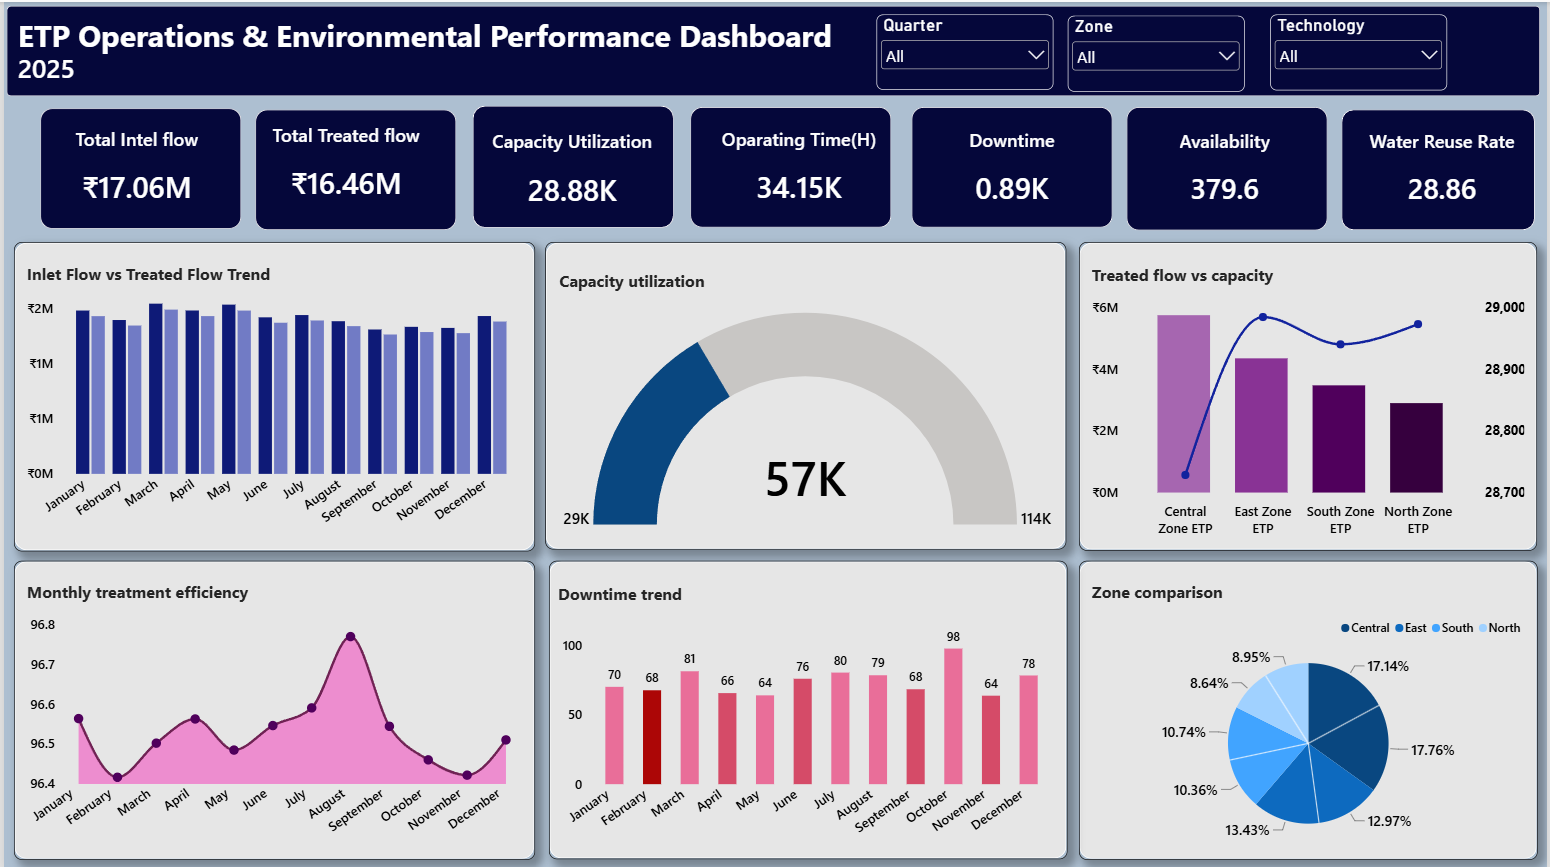

This screenshot's page, from the dashboard's own definition file:
{"tool":"powerbi","page":{"name":"Executive Overview","canvas":[1920,1080],"ordinal":0},"visuals":[{"type":"shape","box":[3.6,5.4,1907.1,112.5],"z":0},{"type":"shape","box":[483.9,132.1,225,151.8],"z":0,"group":"g3"},{"type":"shape","box":[1196.4,132.1,234,153.6],"z":0,"group":"g6"},{"type":"shape","box":[1684,132.1,225,153.6],"z":0,"group":"g8"},{"type":"shape","box":[7.1,133.9,225,150],"z":0,"group":"g1"},{"type":"shape","box":[242.9,133.9,223.8,150],"z":0,"group":"g2"},{"type":"shape","box":[717.9,133.9,225,150],"z":0,"group":"g4"},{"type":"shape","box":[958.9,133.9,225,150],"z":0,"group":"g5"},{"type":"shape","box":[1442.2,135.4,225,150],"z":0,"group":"g7"},{"type":"shape","box":[12.6,297.8,647.9,384.4],"z":0,"group":"g9"},{"type":"shape","box":[12.6,694.9,647.9,371.8],"z":0,"group":"g12"},{"type":"shape","box":[675,694.9,647.9,371.8],"z":0,"group":"g13"},{"type":"group","id":"g1","title":"Group 1","box":[7.1,133.9,225,150],"z":1000},{"type":"cardVisual","fields":{"Data":["Daily_Operations.Avg Downtime"]},"box":[968,143,221.4,126.8],"z":1000,"group":"g5"},{"type":"cardVisual","fields":{"Data":["Daily_Operations.Overall Compliance Rate (%)"]},"box":[1207.1,143.5,232.1,129.7],"z":1000,"group":"g6"},{"type":"cardVisual","fields":{"Data":["Daily_Operations.Water Reuse Rate"]},"box":[493.6,143.6,215.2,128],"z":1000,"group":"g3"},{"type":"cardVisual","fields":{"Data":["Daily_Operations.Total Operating Cost"]},"box":[1429.7,143.6,253.6,127.2],"z":1000,"group":"g7"},{"type":"cardVisual","fields":{"Data":["Daily_Operations.Total Intel flow"]},"box":[11.9,143.8,208.7,126.5],"z":1000,"group":"g1"},{"type":"cardVisual","fields":{"Data":["Daily_Operations.Total Treated flow"]},"box":[252.1,145.3,217.6,126.5],"z":1000,"group":"g2"},{"type":"cardVisual","fields":{"Data":["Daily_Operations.Cost per KL"]},"box":[1666.1,145.5,253.6,130.2],"z":1000,"group":"g8"},{"type":"cardVisual","fields":{"Data":["Daily_Operations.Plant Availability"]},"box":[726.3,146.9,205.5,126.5],"z":1000,"group":"g4"},{"type":"shape","box":[1337.8,297.8,569.9,383.7],"z":1000,"group":"g11"},{"type":"shape","box":[675,299.6,647.9,382.6],"z":1000,"group":"g10"},{"type":"shape","box":[1337.4,694.9,570.3,371.8],"z":1000,"group":"g14"},{"type":"group","id":"g2","title":"Group 2","box":[242.9,133.9,226.8,150],"z":2000},{"type":"group","id":"g3","title":"Group 3","box":[483.9,132.1,225,151.8],"z":3000},{"type":"group","id":"g4","title":"Group 4","box":[717.9,133.9,225,150],"z":4000},{"type":"group","id":"g5","title":"Group 5","box":[958.9,133.9,230.5,150],"z":5000},{"type":"group","id":"g6","title":"Group 6","box":[1196.4,132.1,242.9,153.6],"z":6000},{"type":"group","id":"g7","title":"Group 7","box":[1429.7,135.4,255,149.5],"z":7000},{"type":"group","id":"g8","title":"Group 8","box":[1666.1,132.1,253.6,153.6],"z":8000},{"type":"textbox","box":[17.9,16.1,1039.3,62.5],"z":9000},{"type":"slicer","fields":{"Values":["ETP_Master.Zone"]},"box":[1323.2,17.9,219.6,94.6],"z":10000},{"type":"slicer","fields":{"Values":["ETP_Master.Technology"]},"box":[1575,16.1,219.6,94.6],"z":11000},{"type":"textbox","box":[17.9,60.7,133.9,50],"z":12000},{"type":"group","id":"g9","title":"Group 9","box":[12.6,297.8,647.9,384.4],"z":13000},{"type":"areaChart","title":"Monthly Inlet vs Treated Flow","fields":{"Category":["Calendar.Month"],"Y":["Daily_Operations.Total Intel flow","Daily_Operations.Total Treated flow"]},"box":[12.6,309.6,647.9,372.7],"z":13001,"group":"g9"},{"type":"group","id":"g10","title":"Group 10","box":[675,299.6,647.9,382.6],"z":14000},{"type":"group","id":"g11","title":"Group 11","box":[1337.4,297.8,570.3,384.4],"z":15000},{"type":"slicer","fields":{"Values":["Calendar.Quarter"]},"box":[1084.7,16.2,220.2,93.9],"z":16000},{"type":"columnChart","title":"ETP Performance Comparison","fields":{"Y":["Daily_Operations.Water Reuse Rate","Daily_Operations.Plant Availability","Daily_Operations.Overall Compliance Rate (%)"],"Category":["Calendar.Quarter"]},"box":[675,309.6,647.9,370.9],"z":16000,"group":"g10"},{"type":"clusteredColumnChart","title":"Water Reuse vs Discharge","fields":{"Y":["Daily_Operations.Total Reuse Water","Daily_Operations.Total Discharge Water"],"Category":["Calendar.Quarter"]},"box":[1337.4,309.5,569.9,372.7],"z":16002,"group":"g11"},{"type":"columnChart","title":"Monthly Downtime","fields":{"Category":["Calendar.Month"],"Y":["Daily_Operations.Total Downtime"]},"box":[12.6,711.1,647.9,355.6],"z":16004,"group":"g12"},{"type":"donutChart","title":"Operating Cost Breakdown","fields":{"Y":["Daily_Operations.Tot_Energy Cost","Daily_Operations.Tot_Maintenance Cost","Daily_Operations.Tot_Sludge Disposal Cost","Daily_Operations.Total Operating Cost","Daily_Operations.Tot_Camical Cost"],"Category":["Calendar.Quarter"]},"box":[1337.4,705.6,570.3,361.1],"z":16007,"group":"g14"},{"type":"clusteredColumnChart","title":"Overall Compliance ","fields":{"Category":["Calendar.Month"],"Y":["Daily_Operations.Overall Compliance Rate (%)"]},"box":[676.8,711.1,646.1,355.6],"z":16008,"group":"g13"},{"type":"group","id":"g12","title":"Group 12","box":[12.6,694.9,647.9,371.8],"z":17000},{"type":"group","id":"g13","title":"Group 13","box":[675,694.9,647.9,371.8],"z":18000},{"type":"group","id":"g14","title":"Group 14","box":[1337.4,694.9,570.3,371.8],"z":19000}]}

Visuals, with their boxes in screenshot pixels (x1, y1, x2, y2), scaled from the page's 1920x1080 canvas onto the 1550x867 screenshot:
shape: <box>3,4,1542,95</box>
shape: <box>391,106,572,228</box>
shape: <box>966,106,1155,229</box>
shape: <box>1359,106,1541,229</box>
shape: <box>6,107,187,228</box>
shape: <box>196,107,377,228</box>
shape: <box>580,107,761,228</box>
shape: <box>774,107,956,228</box>
shape: <box>1164,109,1346,229</box>
shape: <box>10,239,533,548</box>
shape: <box>10,558,533,856</box>
shape: <box>545,558,1068,856</box>
"Group 1" group: <box>6,107,187,228</box>
cardVisual - Daily_Operations.Avg Downtime: <box>781,115,960,217</box>
cardVisual - Daily_Operations.Overall Compliance Rate (%): <box>974,115,1162,219</box>
cardVisual - Daily_Operations.Water Reuse Rate: <box>398,115,572,218</box>
cardVisual - Daily_Operations.Total Operating Cost: <box>1154,115,1359,217</box>
cardVisual - Daily_Operations.Total Intel flow: <box>10,115,178,217</box>
cardVisual - Daily_Operations.Total Treated flow: <box>204,117,379,218</box>
cardVisual - Daily_Operations.Cost per KL: <box>1345,117,1549,221</box>
cardVisual - Daily_Operations.Plant Availability: <box>586,118,752,219</box>
shape: <box>1080,239,1540,547</box>
shape: <box>545,241,1068,548</box>
shape: <box>1080,558,1540,856</box>
"Group 2" group: <box>196,107,379,228</box>
"Group 3" group: <box>391,106,572,228</box>
"Group 4" group: <box>580,107,761,228</box>
"Group 5" group: <box>774,107,960,228</box>
"Group 6" group: <box>966,106,1162,229</box>
"Group 7" group: <box>1154,109,1360,229</box>
"Group 8" group: <box>1345,106,1549,229</box>
textbox: <box>14,13,853,63</box>
slicer - ETP_Master.Zone: <box>1068,14,1245,90</box>
slicer - ETP_Master.Technology: <box>1271,13,1449,89</box>
textbox: <box>14,49,123,89</box>
"Group 9" group: <box>10,239,533,548</box>
"Monthly Inlet vs Treated Flow" areaChart: <box>10,249,533,548</box>
"Group 10" group: <box>545,241,1068,548</box>
"Group 11" group: <box>1080,239,1540,548</box>
slicer - Calendar.Quarter: <box>876,13,1053,88</box>
"ETP Performance Comparison" columnChart: <box>545,249,1068,546</box>
"Water Reuse vs Discharge" clusteredColumnChart: <box>1080,248,1540,548</box>
"Monthly Downtime" columnChart: <box>10,571,533,856</box>
"Operating Cost Breakdown" donutChart: <box>1080,566,1540,856</box>
"Overall Compliance " clusteredColumnChart: <box>546,571,1068,856</box>
"Group 12" group: <box>10,558,533,856</box>
"Group 13" group: <box>545,558,1068,856</box>
"Group 14" group: <box>1080,558,1540,856</box>
